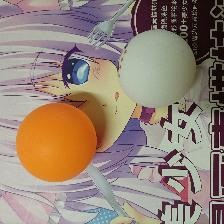WhiteBall: (119, 29, 196, 108)
YellowBall: (16, 101, 97, 182)
